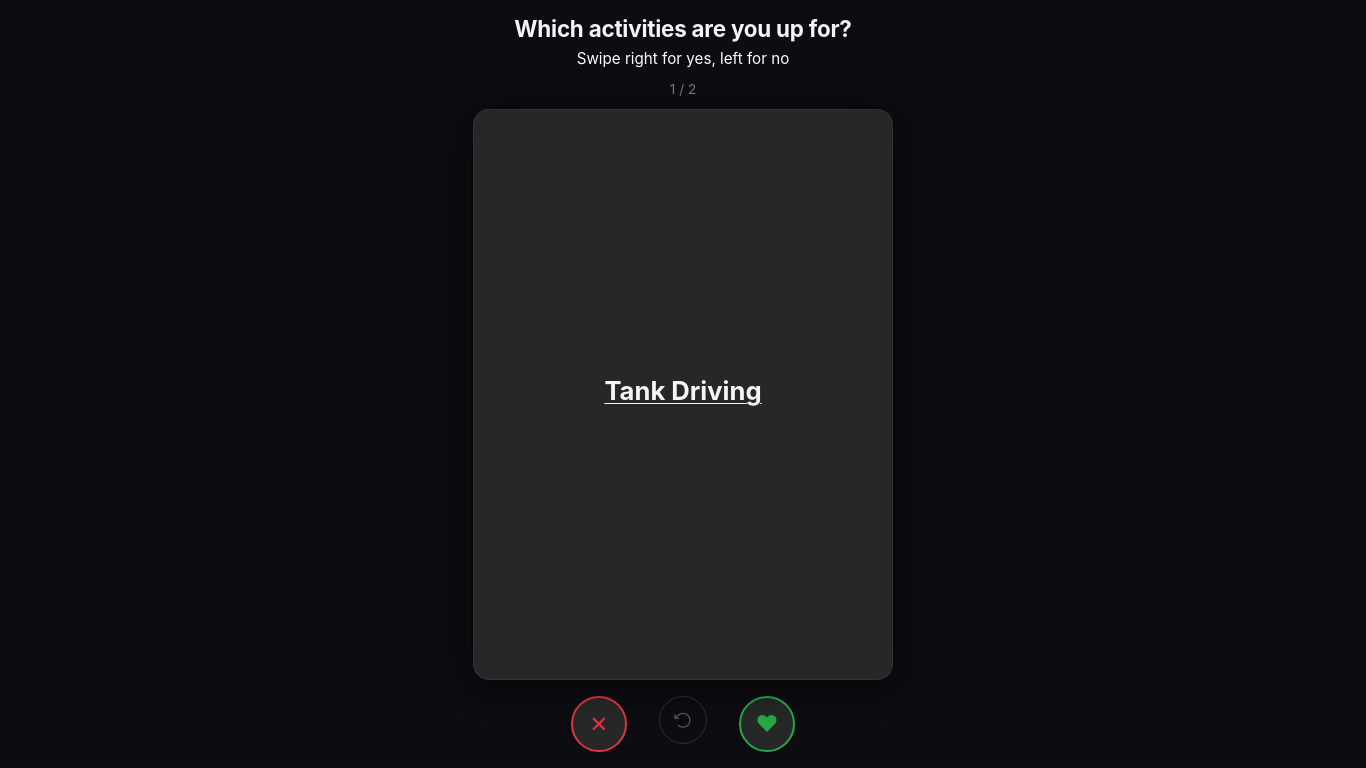
undo on the swipe takes the last card back
This screenshot has width=1366, height=768.
Click the button named "Dislike": (599, 724) [571, 696, 627, 752]
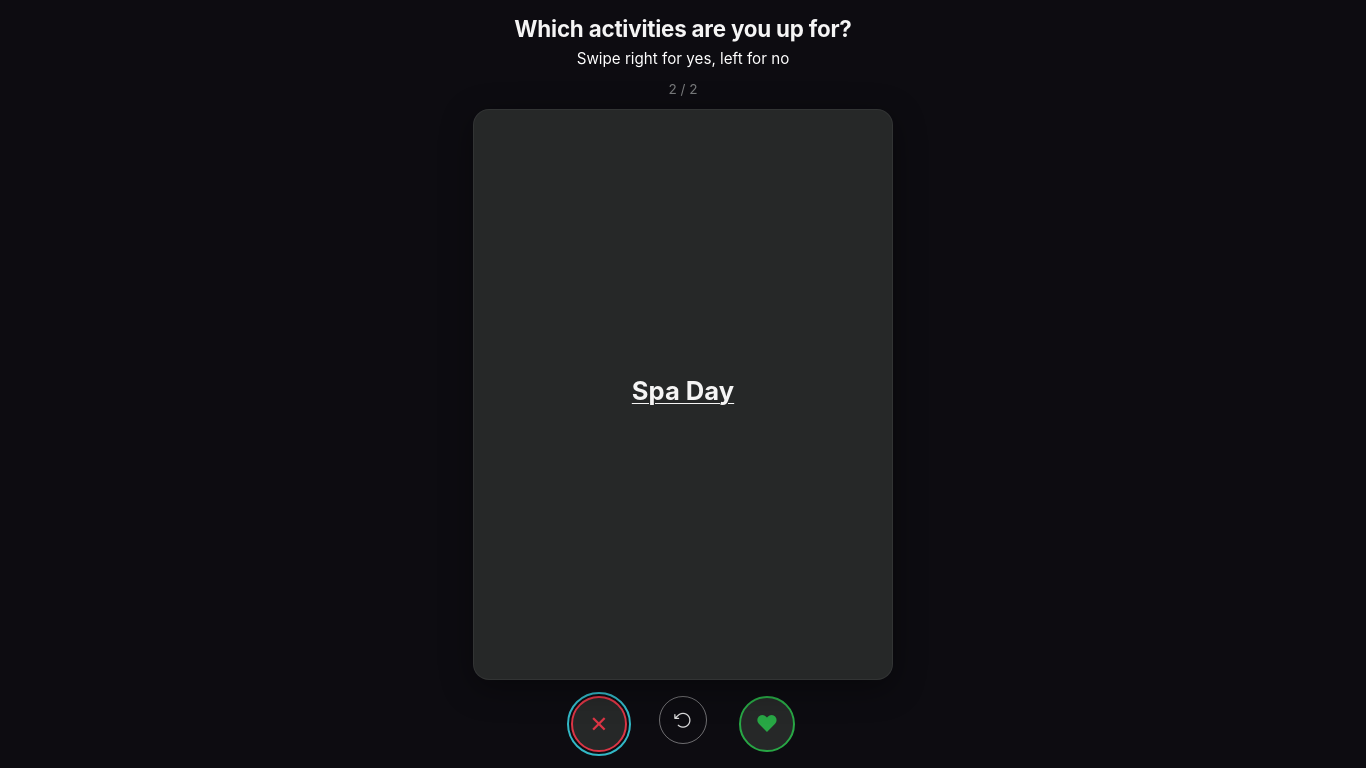
Click the button named "Undo last swipe": (683, 720) [659, 696, 707, 744]
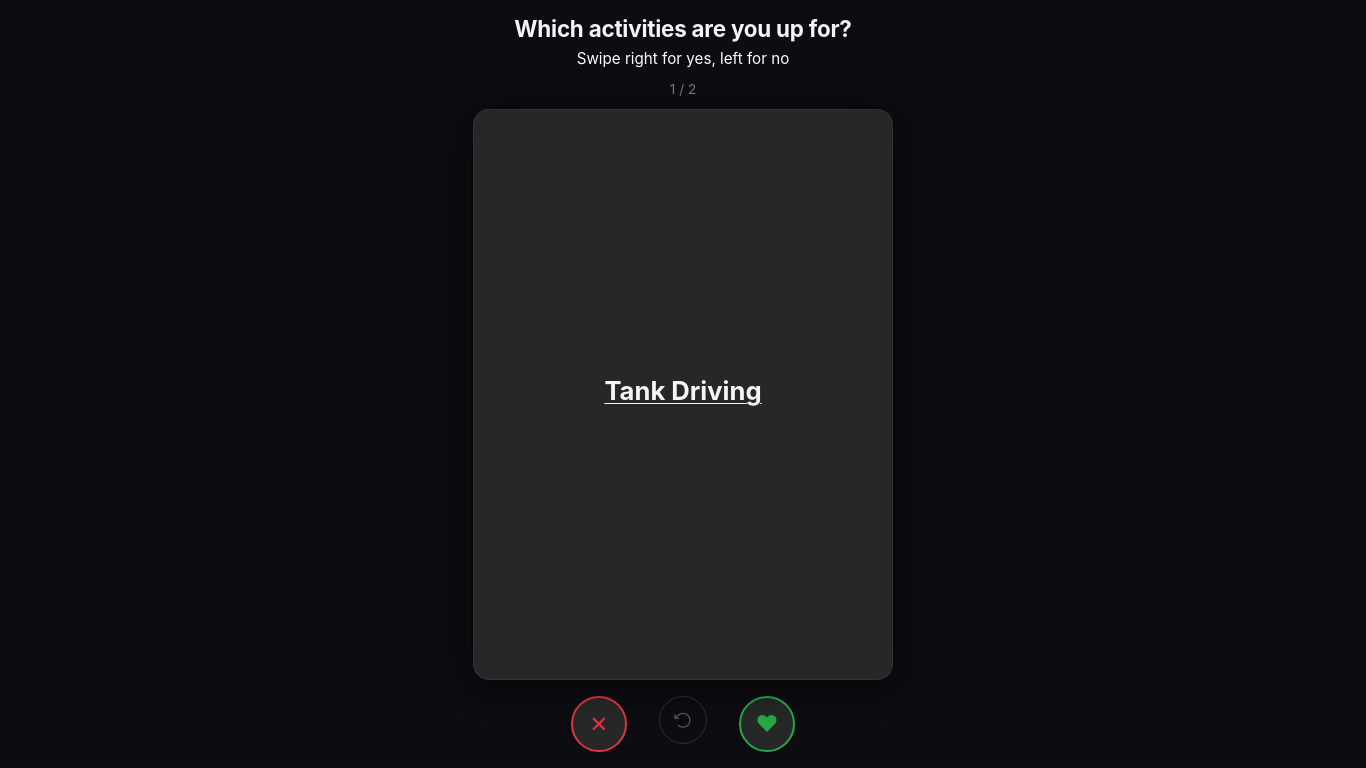
Click the button named "Like": (767, 724) [739, 696, 795, 752]
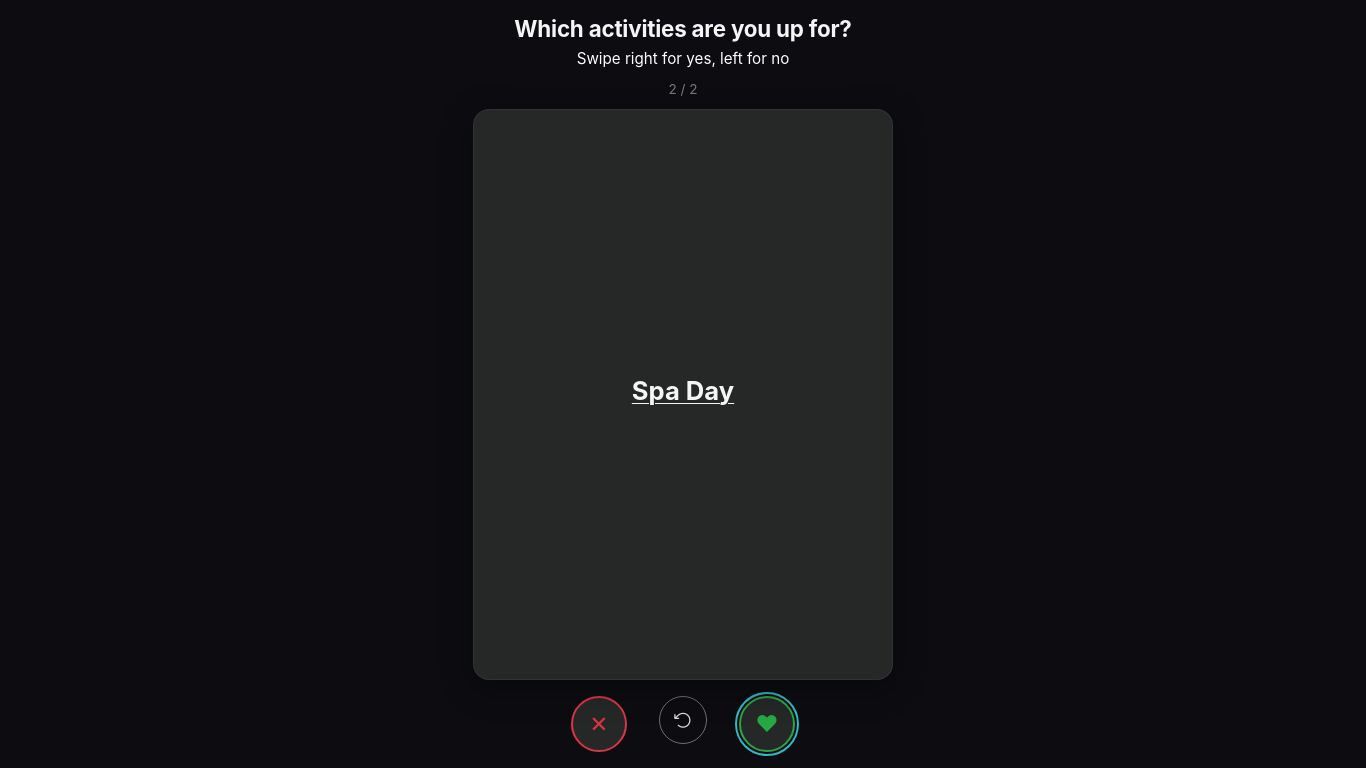
Click the button named "Like": (767, 724) [739, 696, 795, 752]
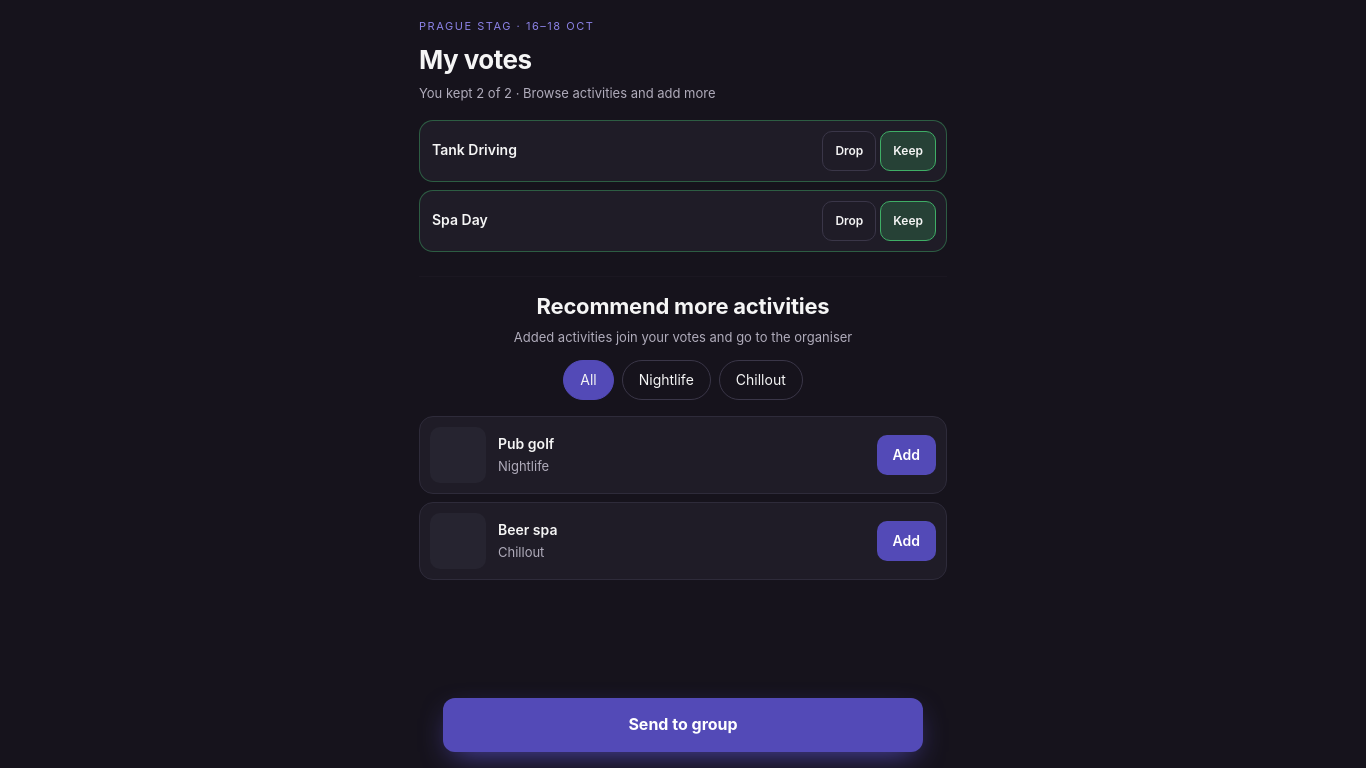
Result: the heading "My votes" is shown at [419, 44, 532, 75]
Result: the text "You kept 2 of 2 · Browse activities and add more" is shown at [419, 85, 716, 101]
